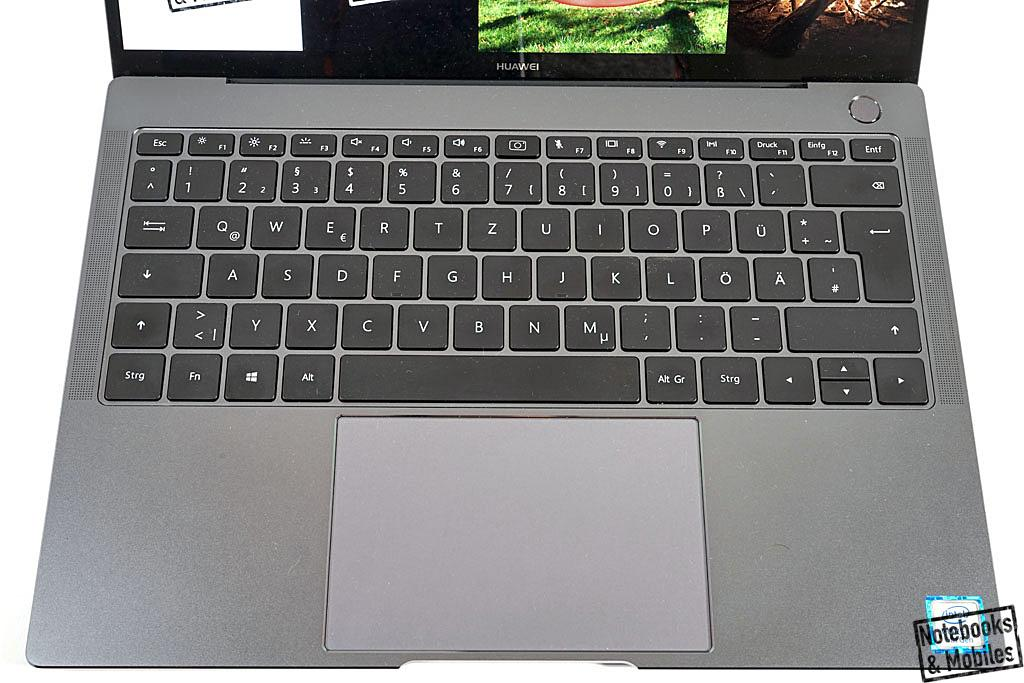0: (649, 160, 700, 203)
1: (172, 156, 223, 199)
2: (225, 156, 276, 200)
3: (278, 157, 329, 200)
4: (333, 157, 382, 200)
5: (385, 157, 435, 201)
6: (438, 158, 489, 201)
7: (491, 158, 541, 202)
8: (544, 158, 593, 203)
9: (596, 159, 646, 203)
a: (204, 250, 258, 296)
accent: (755, 160, 804, 203)
ae: (752, 253, 804, 300)
alt-left: (279, 350, 334, 400)
altgr-right: (642, 352, 696, 402)
b: (451, 301, 505, 348)
c: (339, 300, 393, 348)
caret: (130, 157, 170, 198)
comma: (617, 301, 669, 349)
d: (314, 250, 367, 298)
del: (808, 161, 900, 205)
e: (303, 203, 355, 248)
enter: (839, 205, 914, 299)
f: (370, 251, 422, 297)
g: (424, 251, 477, 298)
h: (479, 252, 531, 298)
hash: (805, 253, 858, 299)
i: (573, 205, 624, 249)
j: (535, 252, 585, 298)
k: (589, 252, 641, 299)
keyboard: (93, 123, 944, 417)
l: (643, 253, 695, 299)
less: (171, 298, 226, 347)
m: (561, 301, 615, 350)
minus: (727, 302, 780, 349)
n: (506, 301, 560, 349)
o: (626, 206, 677, 250)
oe: (697, 253, 750, 300)
p: (680, 206, 731, 250)
plus: (786, 206, 837, 251)
point: (672, 302, 726, 349)
q: (194, 201, 248, 247)
r: (357, 203, 409, 249)
s: (259, 250, 312, 297)
shift-left: (108, 299, 170, 347)
shift-lock: (116, 249, 203, 296)
shift-right: (782, 302, 919, 350)
space: (334, 351, 641, 401)
ss: (702, 160, 752, 204)
strg-left: (100, 348, 165, 399)
strg-right: (698, 352, 759, 402)
t: (412, 204, 462, 248)
tab: (122, 201, 193, 247)
u: (519, 204, 570, 250)
ue: (733, 206, 785, 251)
v: (395, 300, 449, 348)
w: (249, 202, 301, 247)
x: (284, 299, 337, 347)
y: (228, 299, 281, 347)
z: (465, 204, 517, 249)
